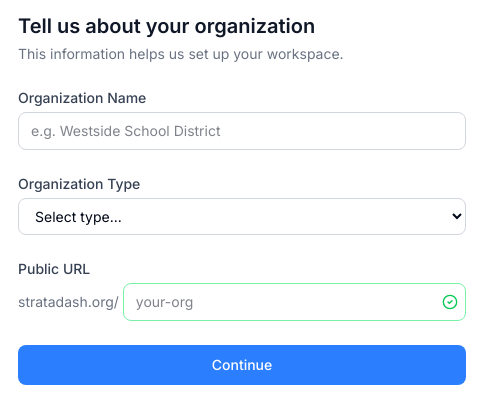
Scenario: OrgCreationStep › auto-generates slug from organization name
The image size is (485, 402).
Type "Westside School District" into the field labelled "Organization Name" at (242, 131), box x1=18 y1=112 x2=466 y2=150
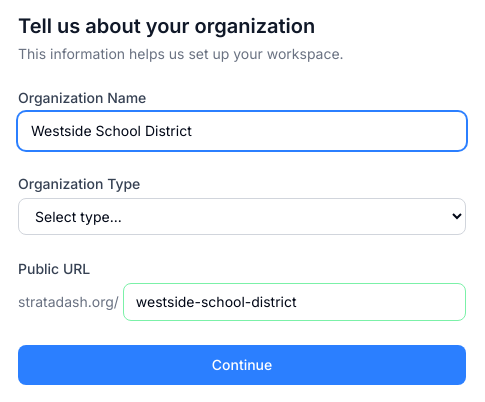
Expected: the field labelled "Public URL" holds "westside-school-district", x1=123 y1=283 x2=466 y2=321
